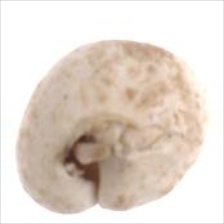L3: (57, 116, 124, 188)
L4: (17, 39, 206, 216)
